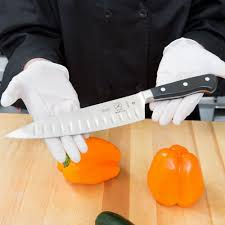knife: (2, 70, 221, 146)
